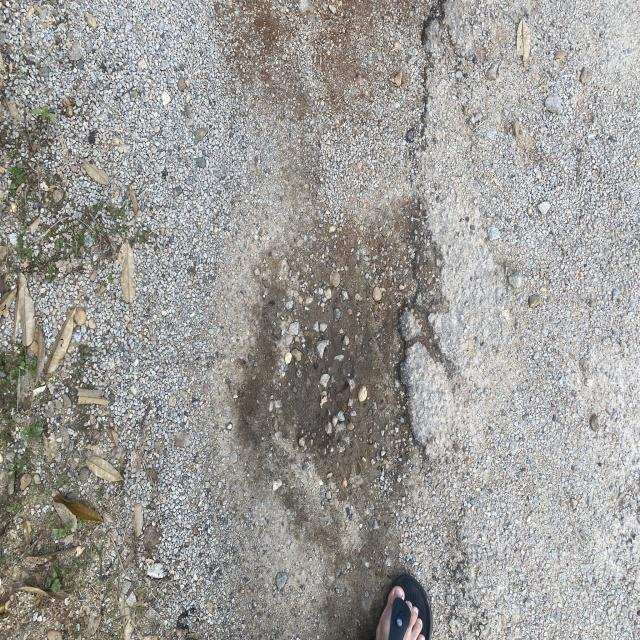Pothole: (227, 138, 485, 524)
